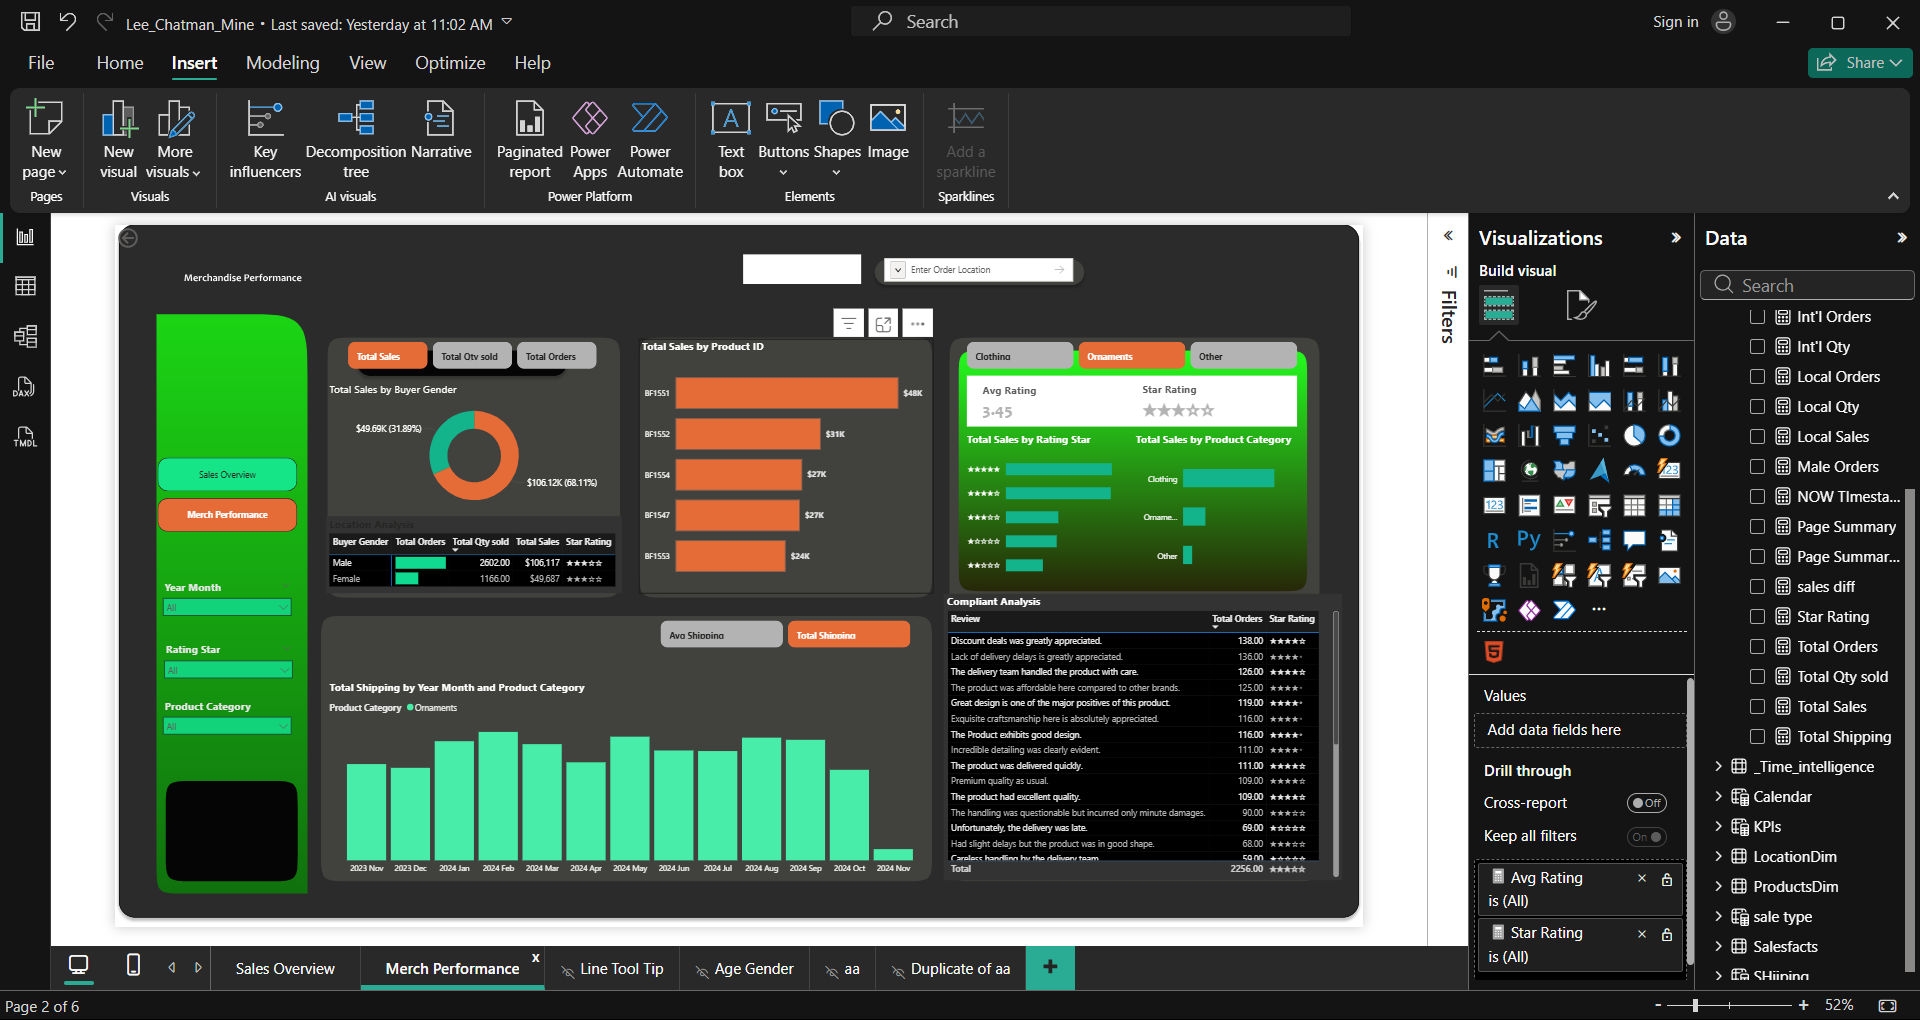

The page's visual inventory and layout, read from the dashboard file:
{"tool":"powerbi","page":{"name":"Merch Performance","canvas":[1920,1080],"ordinal":1},"visuals":[{"type":"slicer","title":"Location Analysis","fields":{"Values":["Calendar.Year Month"]},"box":[64,540,218,88],"z":0},{"type":"slicer","title":"Location Analysis","fields":{"Values":["Salesfacts.Rating Star"]},"box":[66,636,218,88],"z":1000},{"type":"slicer","title":"Location Analysis","fields":{"Values":["ProductDim.Product Category"]},"box":[64,724,218,88],"z":2000},{"type":"textSlicer","fields":{"Values":["LocationDim.Order Location"]},"box":[1178,46,300,46],"z":3000},{"type":"pivotTable","title":"Location Analysis","fields":{"Values":["_Analysis.Total Orders","_Analysis.Total Qty sold","_Analysis.Total Sales","_Analysis.Star Rating"],"Rows":["Salesfacts.Buyer Gender"]},"box":[324.1,448.1,455.6,118.5],"z":4000},{"type":"advancedSlicerVisual","fields":{"Values":["KPIs.KPIs"]},"box":[353.7,175.9,394.4,51.9],"z":5000},{"type":"clusteredBarChart","fields":{"Y":["_Analysis.Total Sales"],"Category":["ProductDim.Product ID"]},"box":[805.6,175.9,453.7,390.7],"z":6000},{"type":"donutChart","fields":{"Y":["_Analysis.Total Sales"],"Category":["Salesfacts.Buyer Gender"]},"box":[324.1,240.7,455.6,207.4],"z":7000},{"type":"clusteredColumnChart","fields":{"Y":["_Analysis.Total Shipping"],"Category":["Calendar.Year Month"],"Series":["ProductDim.Product Category"]},"box":[324.1,700,935.2,307.4],"z":8000},{"type":"advancedSlicerVisual","fields":{"Values":["SHiiping.SHiping"]},"box":[835.2,603.7,394.4,51.9],"z":9000},{"type":"advancedSlicerVisual","fields":{"Values":["ProductDim.Product Category"]},"box":[1305.6,175.9,518.5,51.9],"z":10000},{"type":"cardVisual","fields":{"Data":["_Analysis.Avg Rating","_Analysis.Star Rating"]},"box":[1305.6,227.8,518.5,88.9],"z":11000},{"type":"clusteredBarChart","fields":{"Y":["_Analysis.Total Sales"],"Category":["Salesfacts.Rating Star"]},"box":[1305.6,316.7,259.3,237],"z":12000},{"type":"clusteredBarChart","fields":{"Y":["_Analysis.Total Sales"],"Category":["ProductDim.Product Category"]},"box":[1564.8,316.7,259.3,237],"z":13000},{"type":"tableEx","title":"Compliant Analysis","fields":{"Values":["Salesfacts.Review","_Analysis.Total Orders","_Analysis.Star Rating"]},"box":[1274.1,566.7,613,440.7],"z":14000},{"type":"actionButton","box":[0,0,100,40],"z":15000},{"type":"cardVisual","fields":{"Data":["_Analysis.Blank"]},"box":[960.7,40.5,191.4,55.2],"z":15001},{"type":"pageNavigator","box":[65.4,357.7,215.4,115.4],"z":15002}]}

Visuals, with their boxes on the page's 1920x1080 design canvas (x1, y1, x2, y2). These are canvas units, not pixel positions in the 1920x1020 screenshot, which may show the page scaled, cropped or inside an application window:
"Location Analysis" slicer: BBox(64, 540, 282, 628)
"Location Analysis" slicer: BBox(66, 636, 284, 724)
"Location Analysis" slicer: BBox(64, 724, 282, 812)
textSlicer - LocationDim.Order Location: BBox(1178, 46, 1478, 92)
"Location Analysis" pivotTable: BBox(324, 448, 780, 567)
advancedSlicerVisual - KPIs.KPIs: BBox(354, 176, 748, 228)
clusteredBarChart - _Analysis.Total Sales x ProductDim.Product ID: BBox(806, 176, 1259, 567)
donutChart - _Analysis.Total Sales x Salesfacts.Buyer Gender: BBox(324, 241, 780, 448)
clusteredColumnChart - _Analysis.Total Shipping x Calendar.Year Month: BBox(324, 700, 1259, 1007)
advancedSlicerVisual - SHiiping.SHiping: BBox(835, 604, 1230, 656)
advancedSlicerVisual - ProductDim.Product Category: BBox(1306, 176, 1824, 228)
cardVisual - _Analysis.Avg Rating x _Analysis.Star Rating: BBox(1306, 228, 1824, 317)
clusteredBarChart - _Analysis.Total Sales x Salesfacts.Rating Star: BBox(1306, 317, 1565, 554)
clusteredBarChart - _Analysis.Total Sales x ProductDim.Product Category: BBox(1565, 317, 1824, 554)
"Compliant Analysis" tableEx: BBox(1274, 567, 1887, 1007)
actionButton: BBox(0, 0, 100, 40)
cardVisual - _Analysis.Blank: BBox(961, 40, 1152, 96)
pageNavigator: BBox(65, 358, 281, 473)
